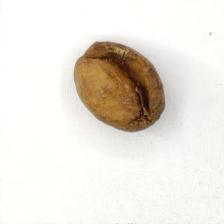NG: (90, 41, 160, 119)
